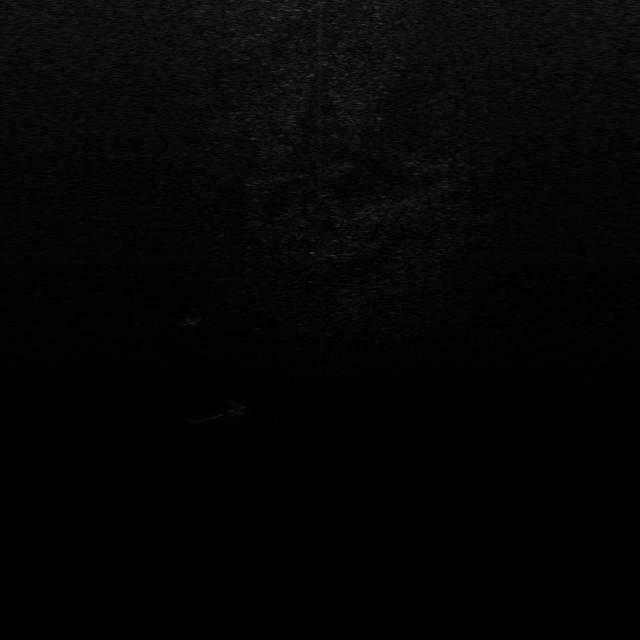ball: (222, 396, 249, 419)
circle cage: (183, 306, 206, 325)
